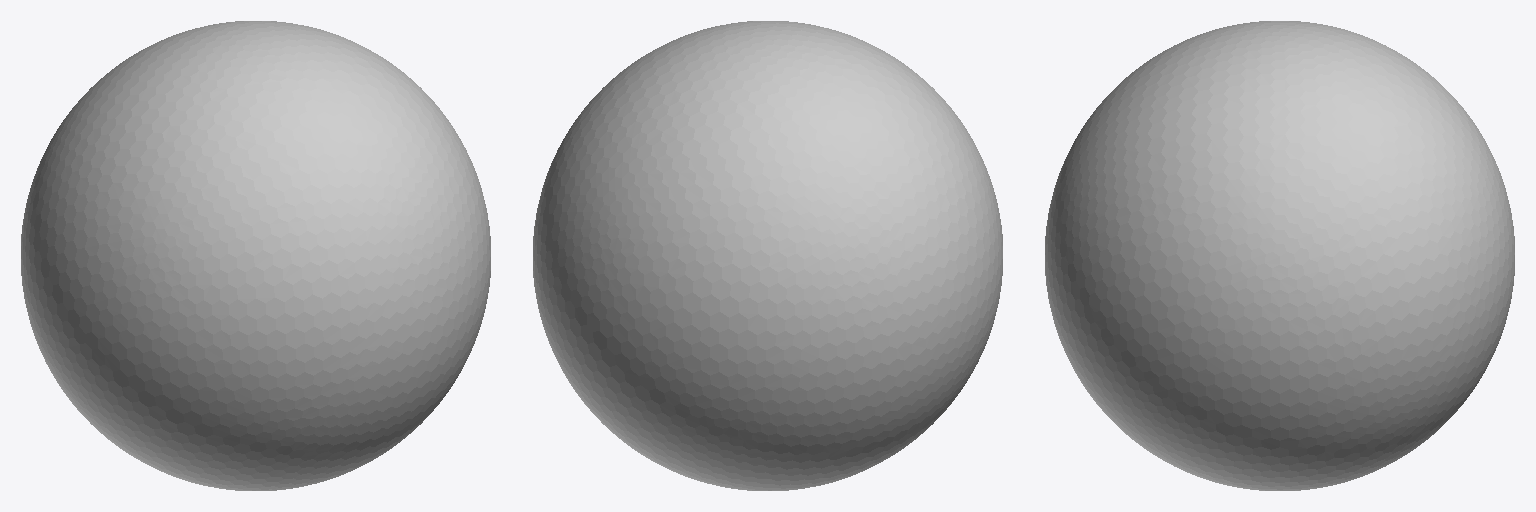
The model's file is planet.obj.
The picture shows the model from 3 angles: view 1: azimuth 30°, elevation 25°; view 2: azimuth 150°, elevation 25°; view 3: azimuth 270°, elevation 25°; orthographic projection.
Visible parts, largest first — view 1: Space_atmosphere_X.001; view 2: Space_atmosphere_X.001; view 3: Space_atmosphere_X.001.
Boxes of the visible parts, <box> form: Space_atmosphere_X.001: <box>21,21,490,490</box>; Space_atmosphere_X.001: <box>533,21,1002,490</box>; Space_atmosphere_X.001: <box>1045,21,1514,490</box>.
Size of the model in its own units: 711 by 712 by 711.